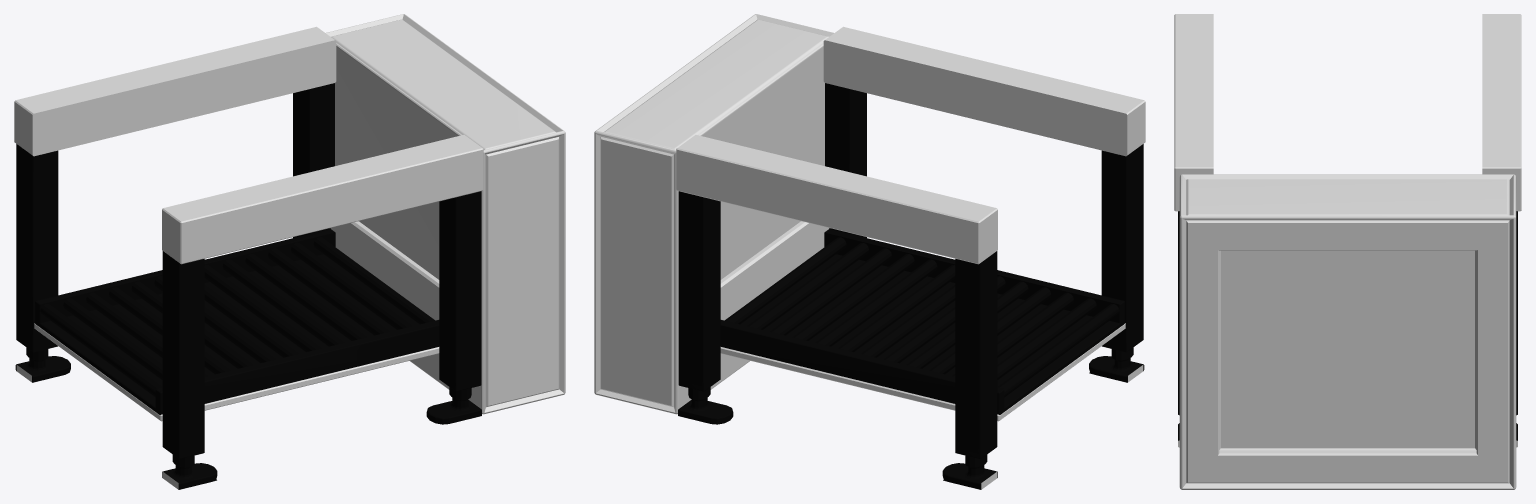
The model's file is belt_lift.obj.
3 views of the same model, side by side, from view 1: azimuth 30°, elevation 25°; view 2: azimuth 150°, elevation 25°; view 3: azimuth 270°, elevation 25° (orthographic). The views are drawn at different scales.
Visible parts, largest first — view 1: polySurface19, pCube6, polySurface18; view 2: polySurface19, pCube6, polySurface18; view 3: polySurface19.
Part boxes in pixels (<box>): polySurface19: <box>14,14,565,489</box>; pCube6: <box>34,221,439,421</box>; polySurface18: <box>40,237,435,397</box>; polySurface19: <box>594,14,1145,489</box>; pCube6: <box>720,221,1125,421</box>; polySurface18: <box>724,237,1119,397</box>; polySurface19: <box>1174,14,1521,489</box>.
Size of the model in its own units: 1195 by 792 by 890.
